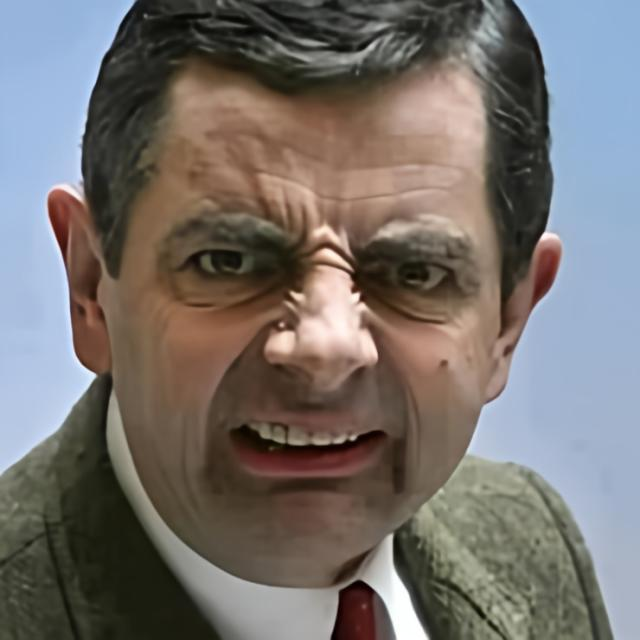disgust: (110, 38, 503, 566)
